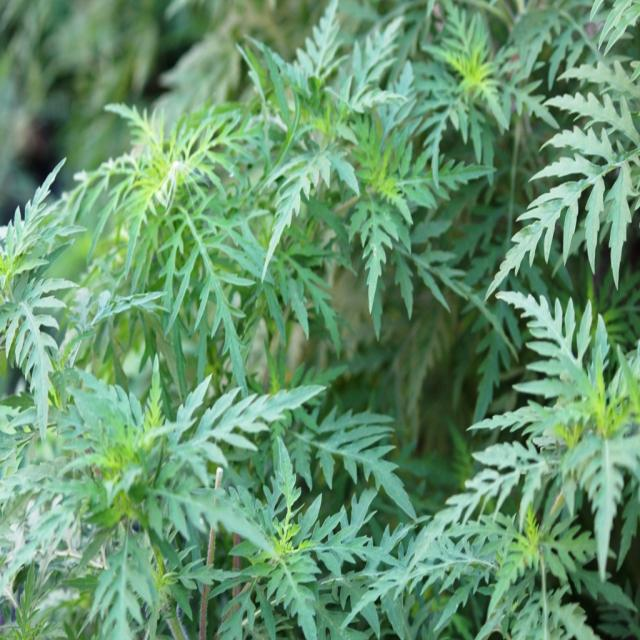ambrosia: (227, 460, 583, 633), (224, 22, 438, 274), (3, 158, 249, 360), (86, 361, 262, 621), (489, 274, 640, 527), (529, 41, 640, 255)
